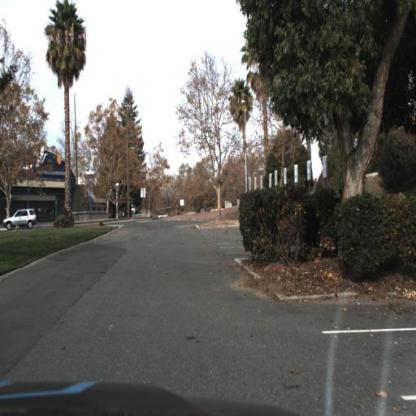car: (2, 206, 40, 233)
